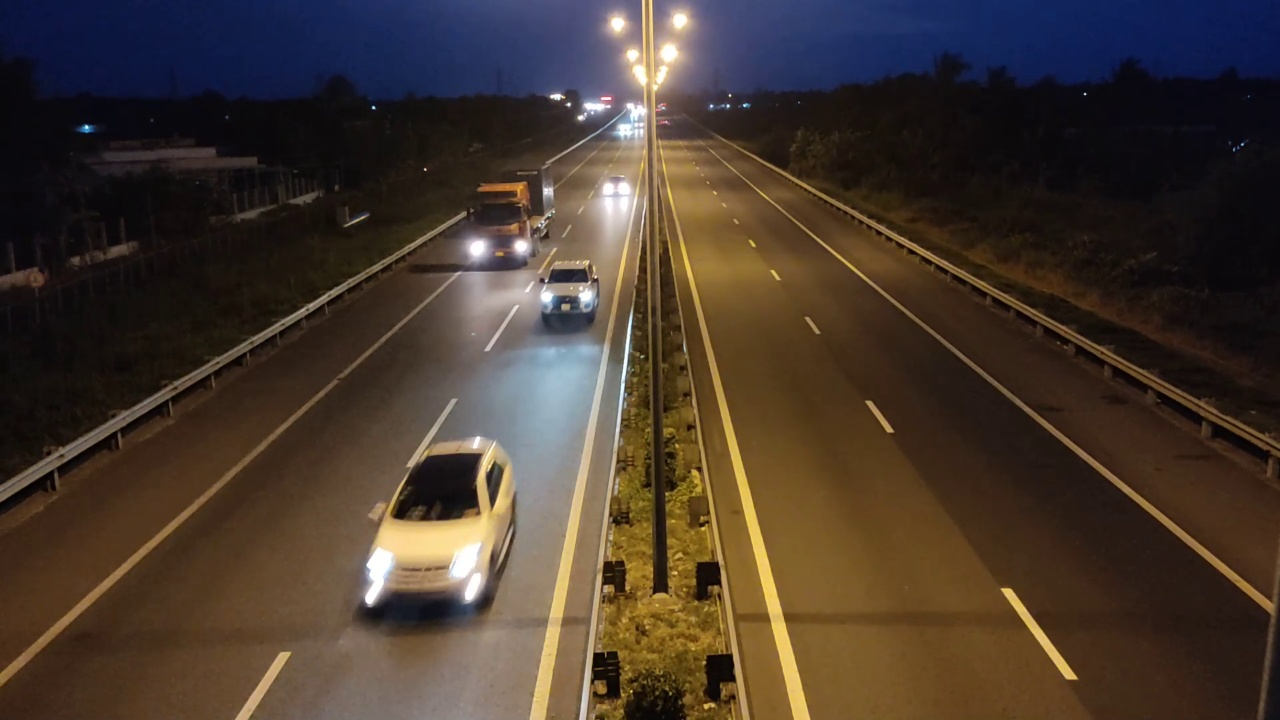car: (357, 435, 519, 620), (538, 257, 601, 331)
truck: (464, 156, 560, 266)
